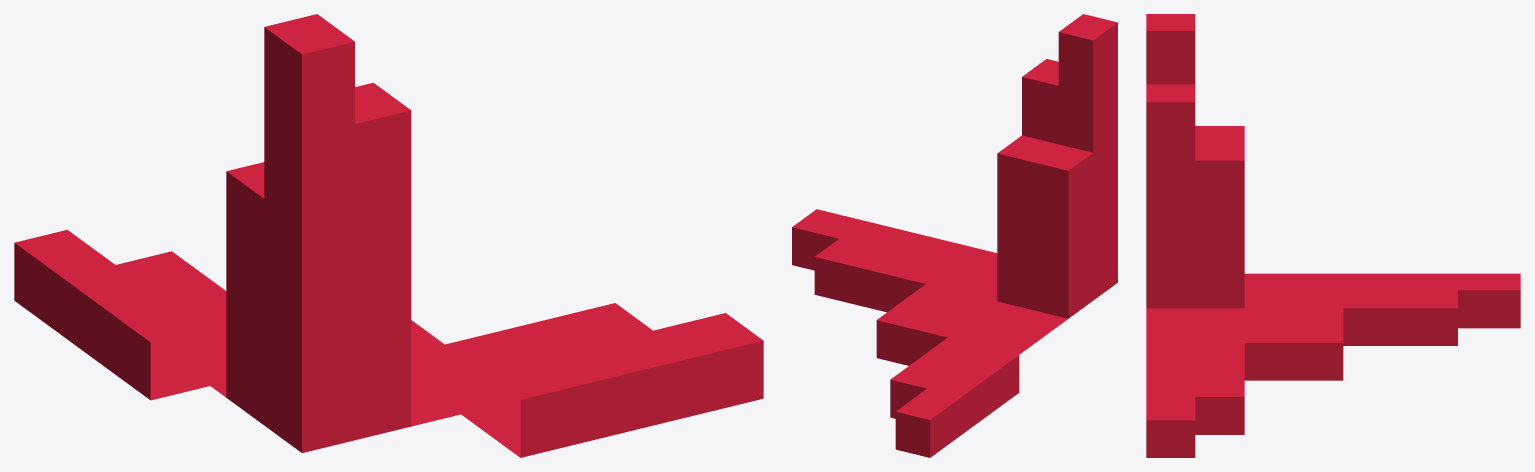
Rendered from boss_bomb_plus.glb.
3 views of the same model, side by side, from view 1: azimuth 30°, elevation 25°; view 2: azimuth 150°, elevation 25°; view 3: azimuth 270°, elevation 25° (orthographic). The views are drawn at different scales.
Parts seen in each view (by area): view 1: MainObject; view 2: MainObject; view 3: MainObject.
Part boxes in pixels (x1,y1,x2,y2): MainObject: (14,14,763,457); MainObject: (792,14,1117,457); MainObject: (1146,14,1520,457).
Bounding box in the file's own units: 1.3 × 1.23 × 1.41.
